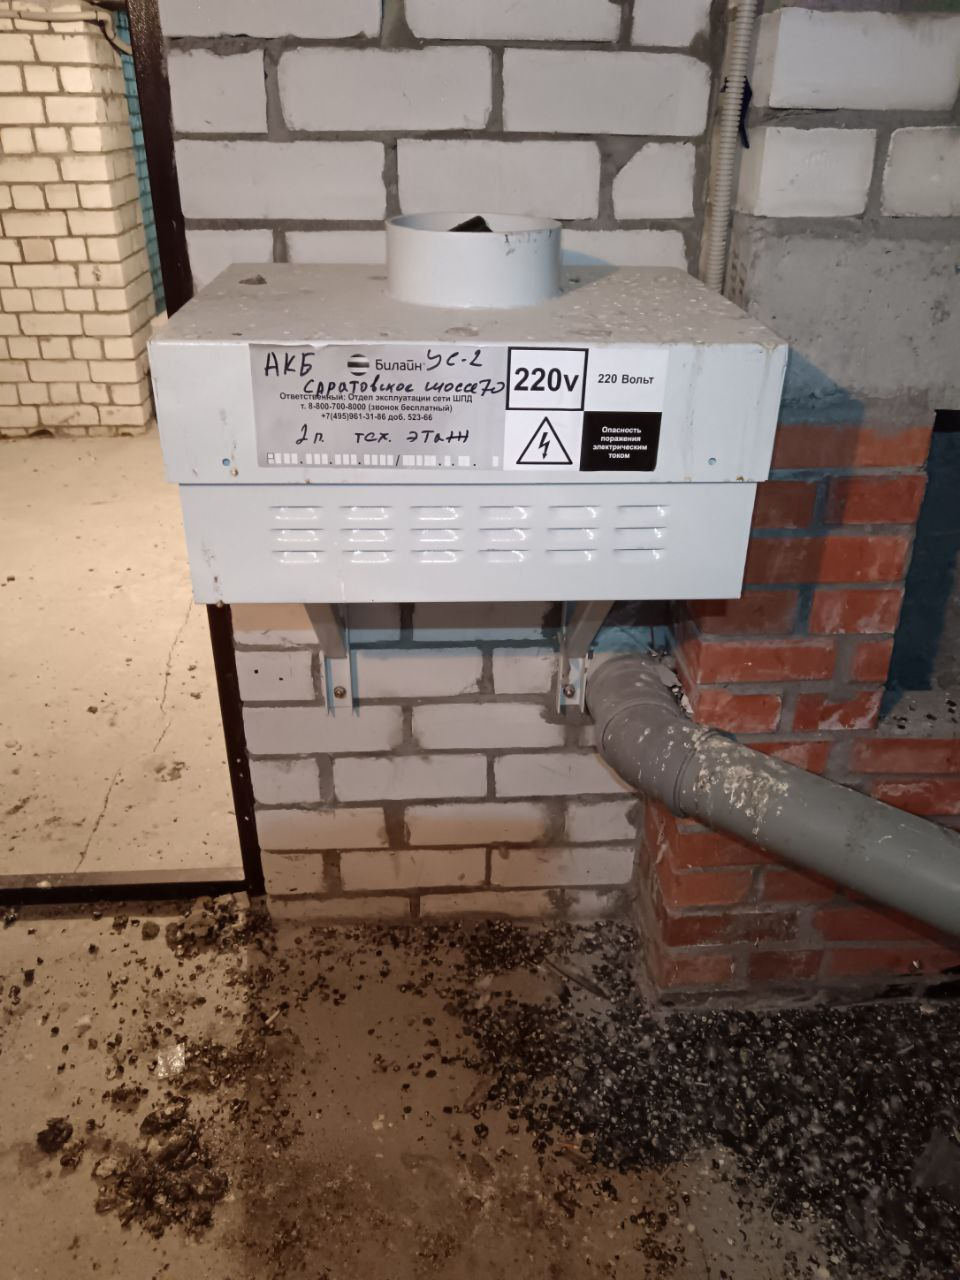shta-ps: (140, 201, 797, 610)
